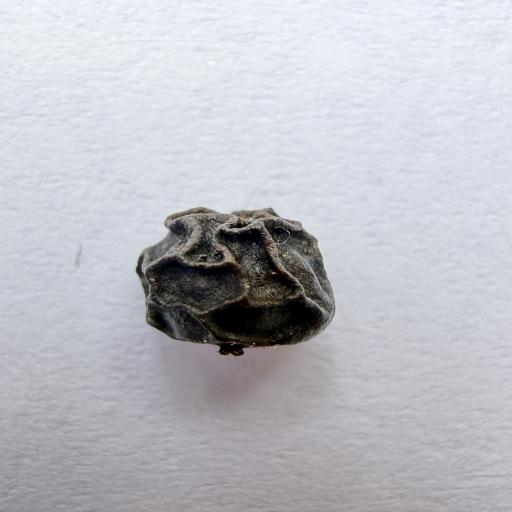Black_pepper: (80, 194, 374, 368)
